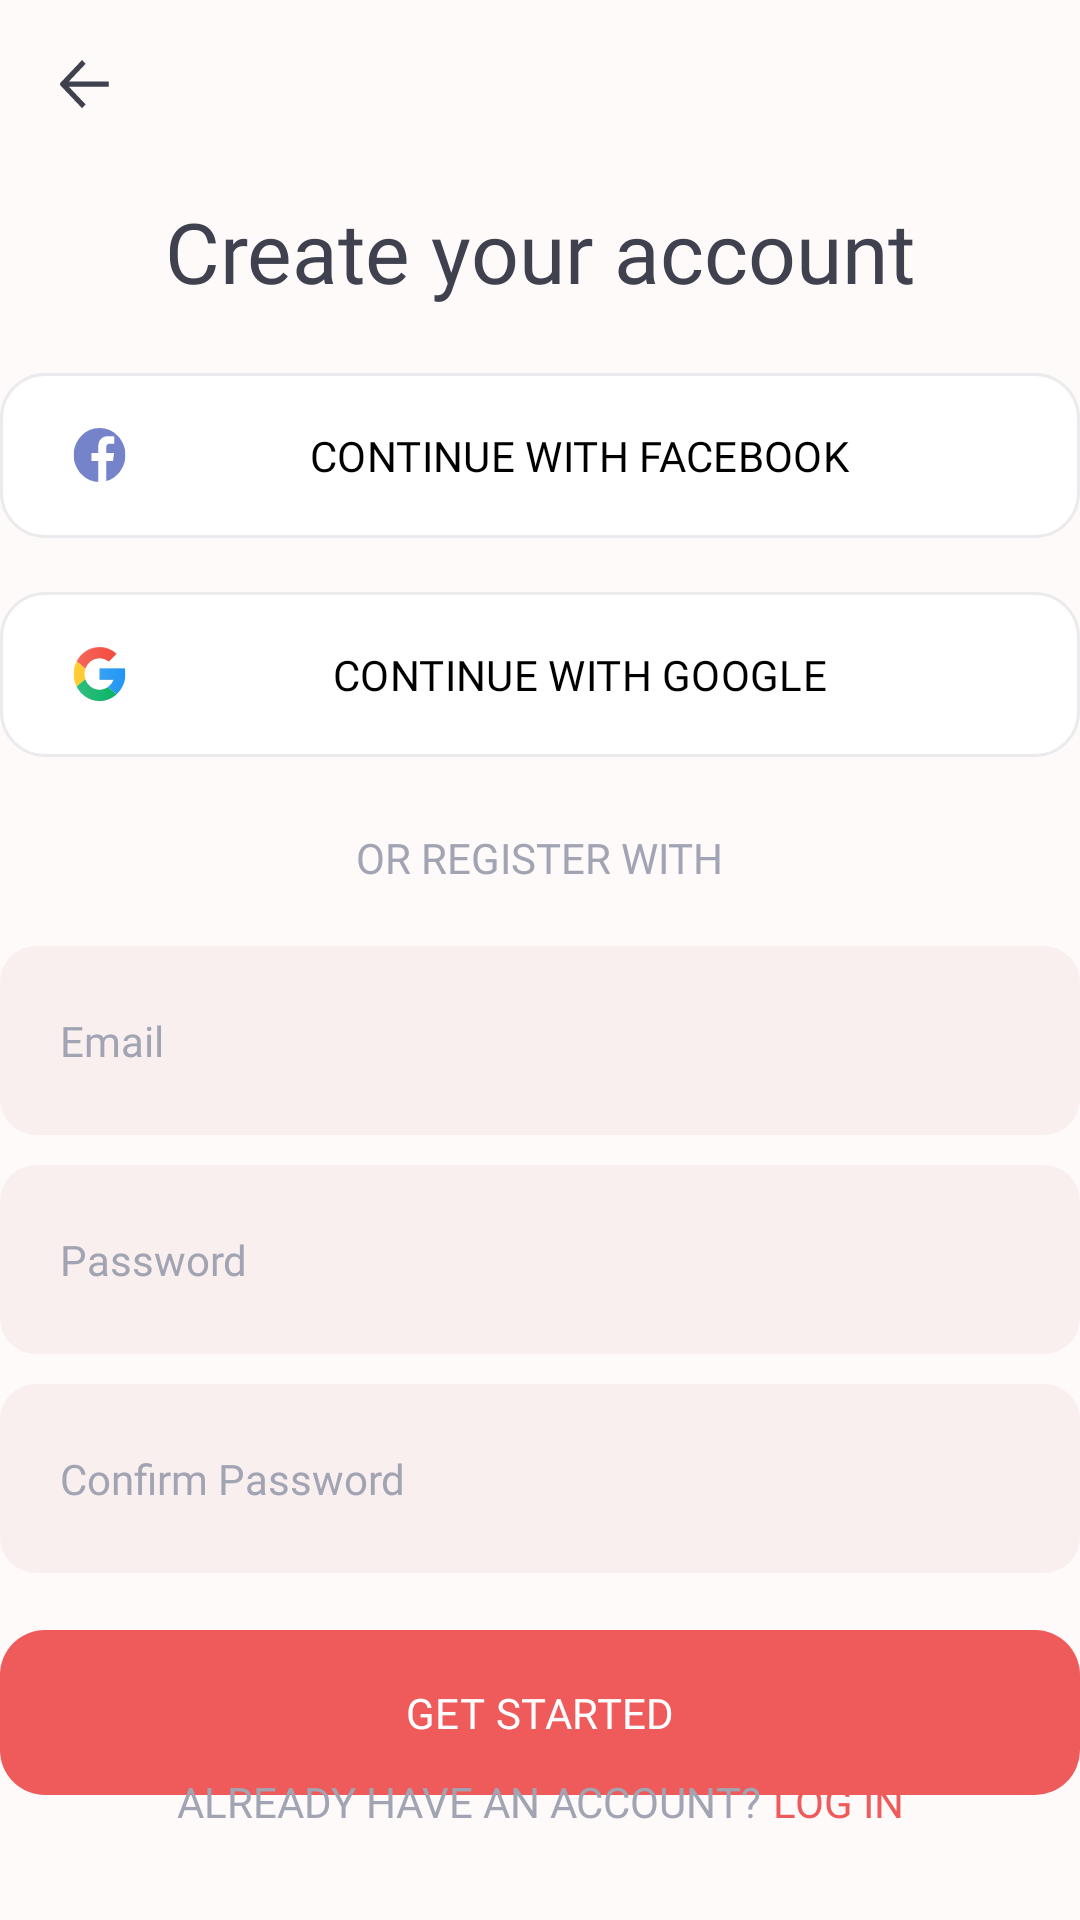

Named icons in this screenshot (1080px×1920px) and their centers, [x,y]:
back: [84,84]
